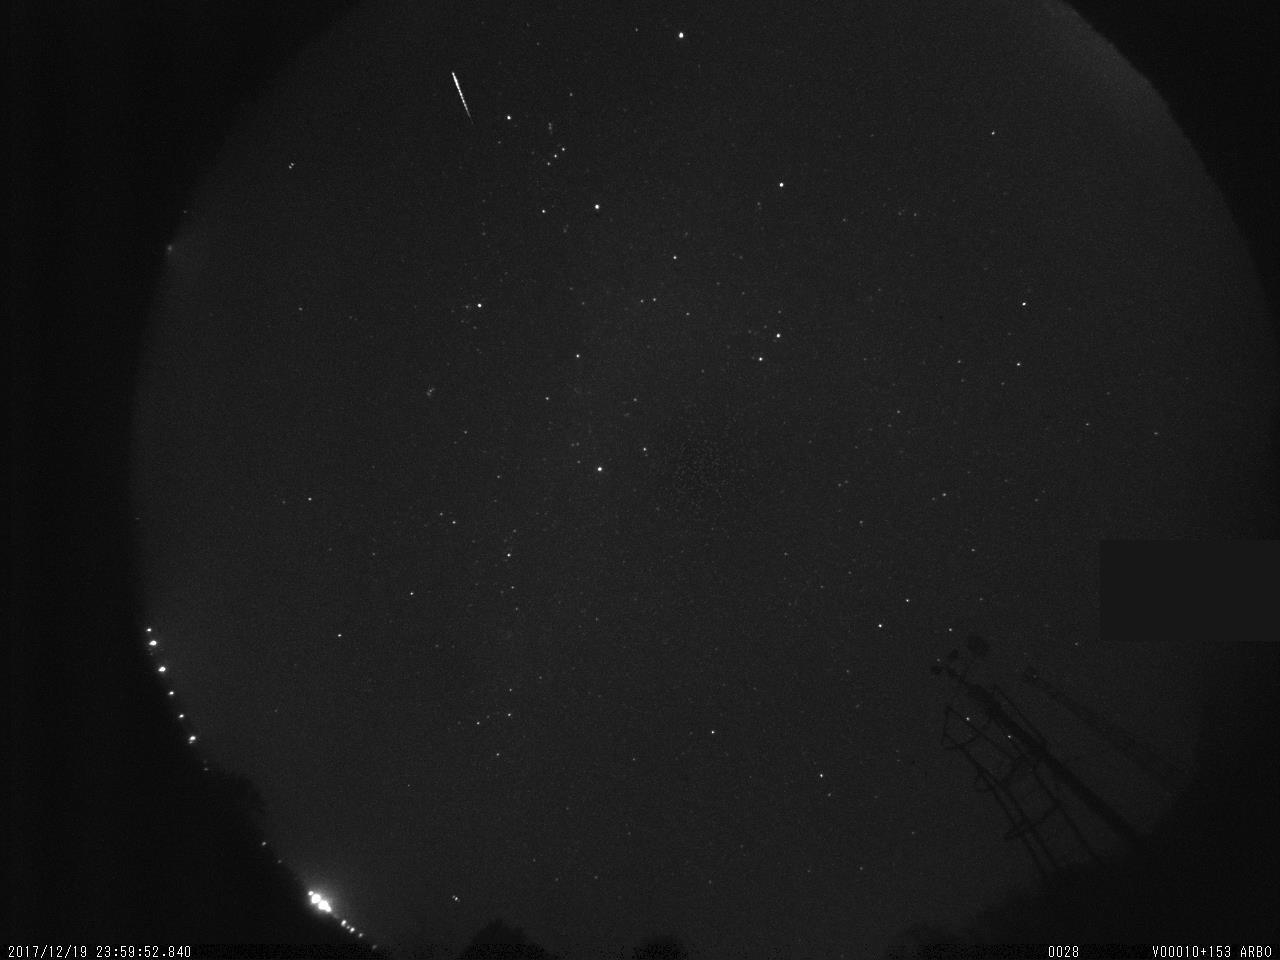meteor: (432, 67, 489, 136)
